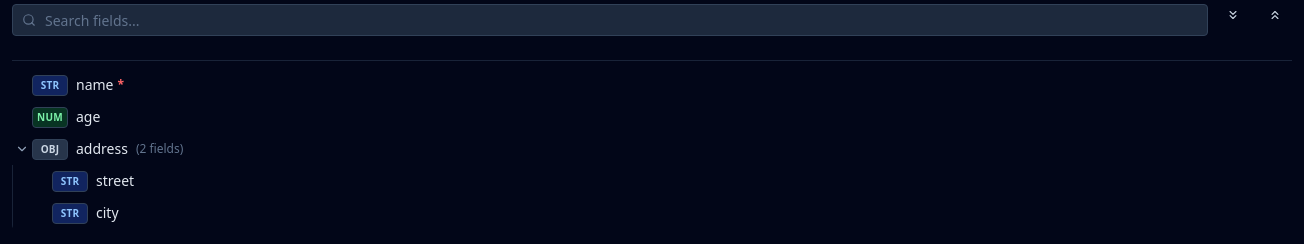
Test: SchemaTreeView › Populated state (AE-01) › hides children after collapsing a node
Expected: the text "street" is shown, [96,171,134,191]
// Click collapse button
Click the button named "Collapse address" at {"x": 22, "y": 149}, box [13,140,31,158]
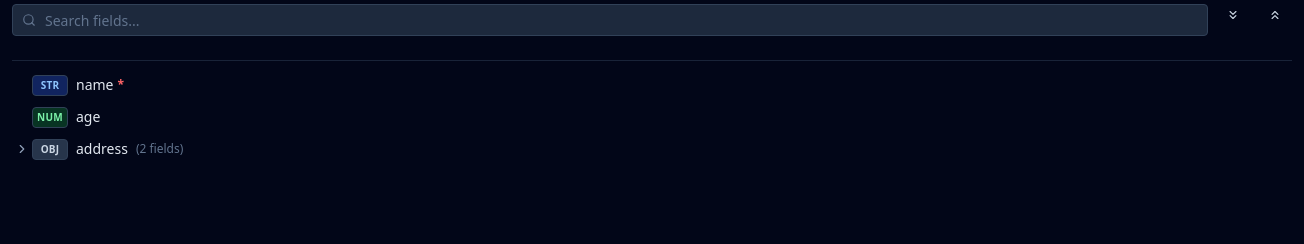
Result: the text "street" is gone
Result: the text "city" is gone
